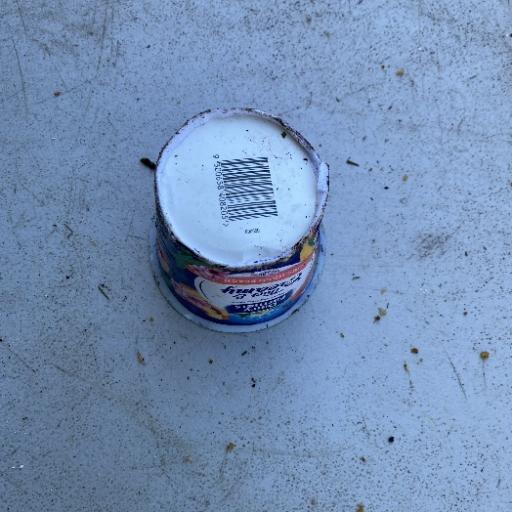Plastic: (144, 105, 331, 335)
